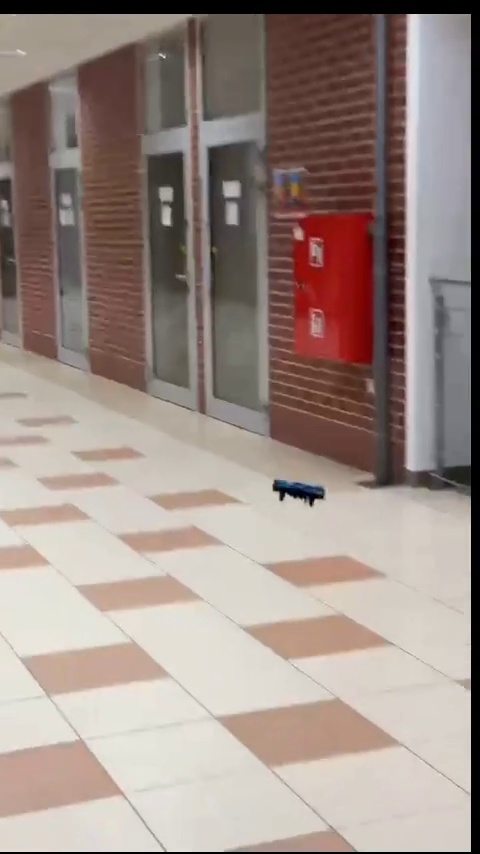drone: (271, 476, 331, 506)
